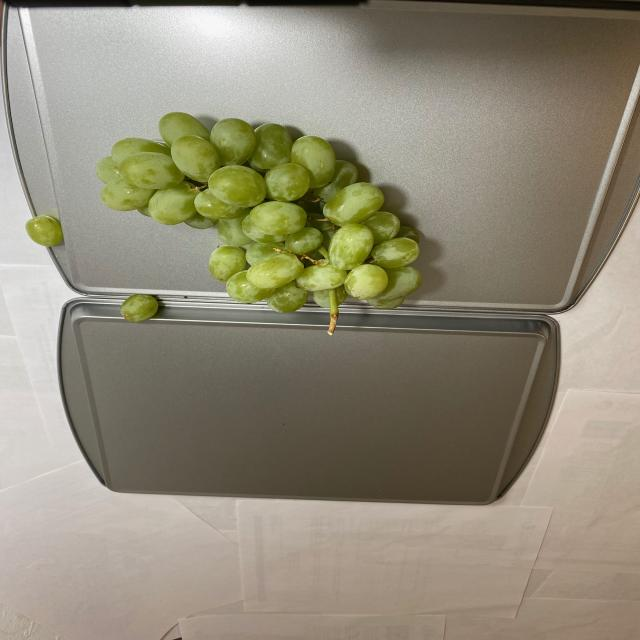grapes: (96, 109, 462, 327), (23, 210, 68, 248)
